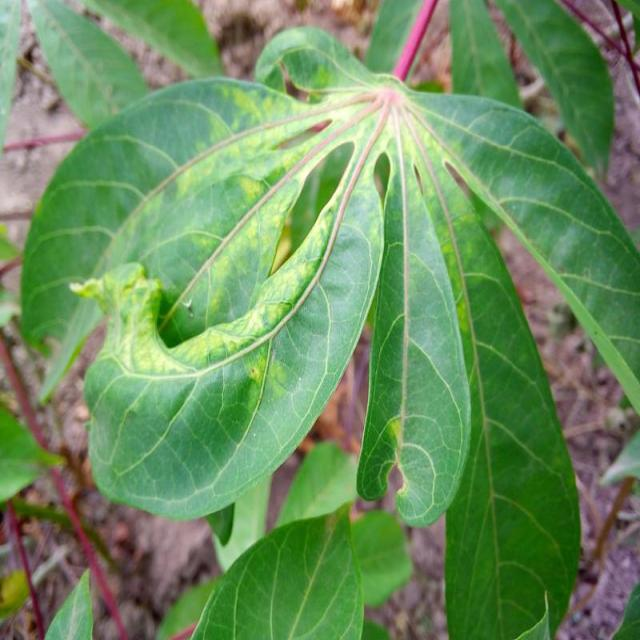cassava leaf: (19, 6, 638, 636)
